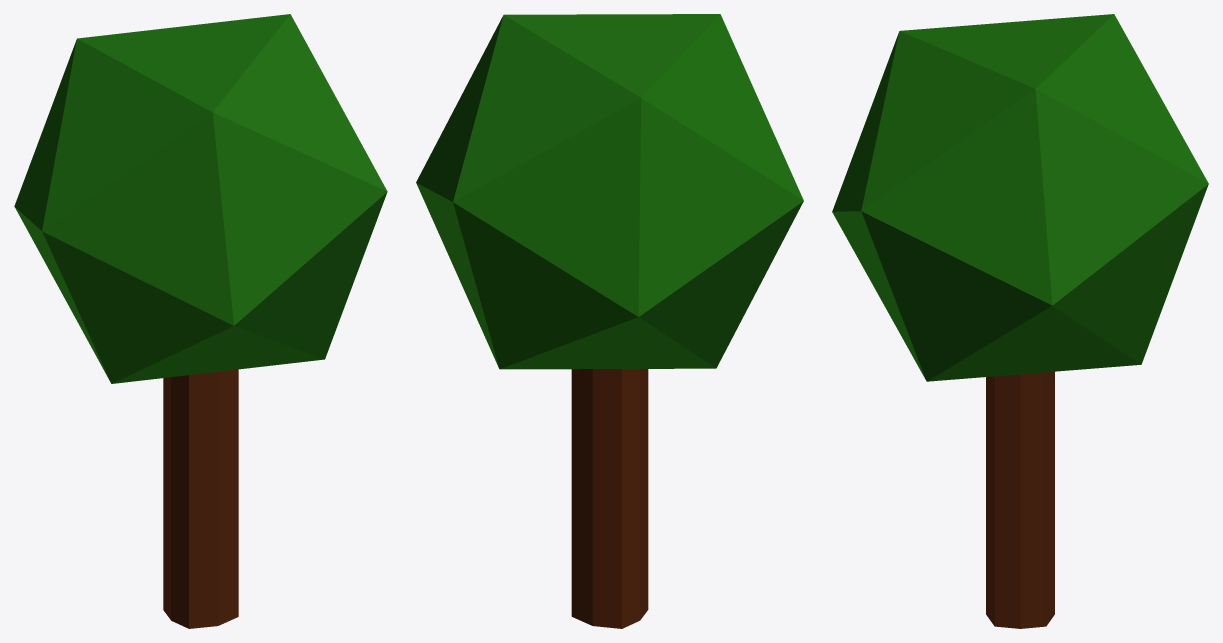
The model's file is Tree_2.fbx.
The picture shows the model from 3 angles, left to right: view 1: azimuth 30°, elevation 25°; view 2: azimuth 150°, elevation 25°; view 3: azimuth 270°, elevation 25°; orthographic projection.
Visible parts, largest first — view 1: Leaves, Tree; view 2: Leaves, Tree; view 3: Leaves, Tree.
Boxes of the visible parts, x1,y1,x2,y2 form: Leaves: (14, 14, 387, 383); Tree: (163, 369, 238, 628); Leaves: (416, 14, 803, 369); Tree: (571, 369, 648, 628); Leaves: (832, 14, 1208, 381); Tree: (986, 371, 1054, 628).
Size of the model in its own units: 177 by 275 by 164.
